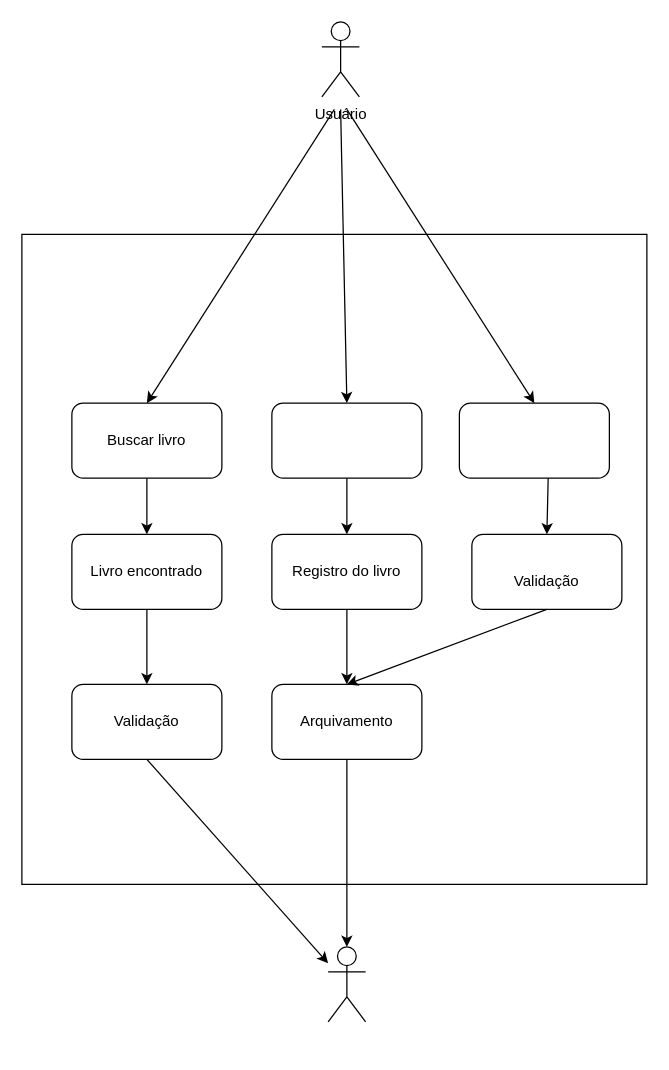
The diagram is 669 pixels wide and 1070 high, and some of its shapes have lost their labels. The centre of each missing label's shape, as x and y in pixels:
"BIblioteca" belongs at [346,984].
"Devolver livro" belongs at [533,440].
"Emprestar livro" belongs at [346,440].
